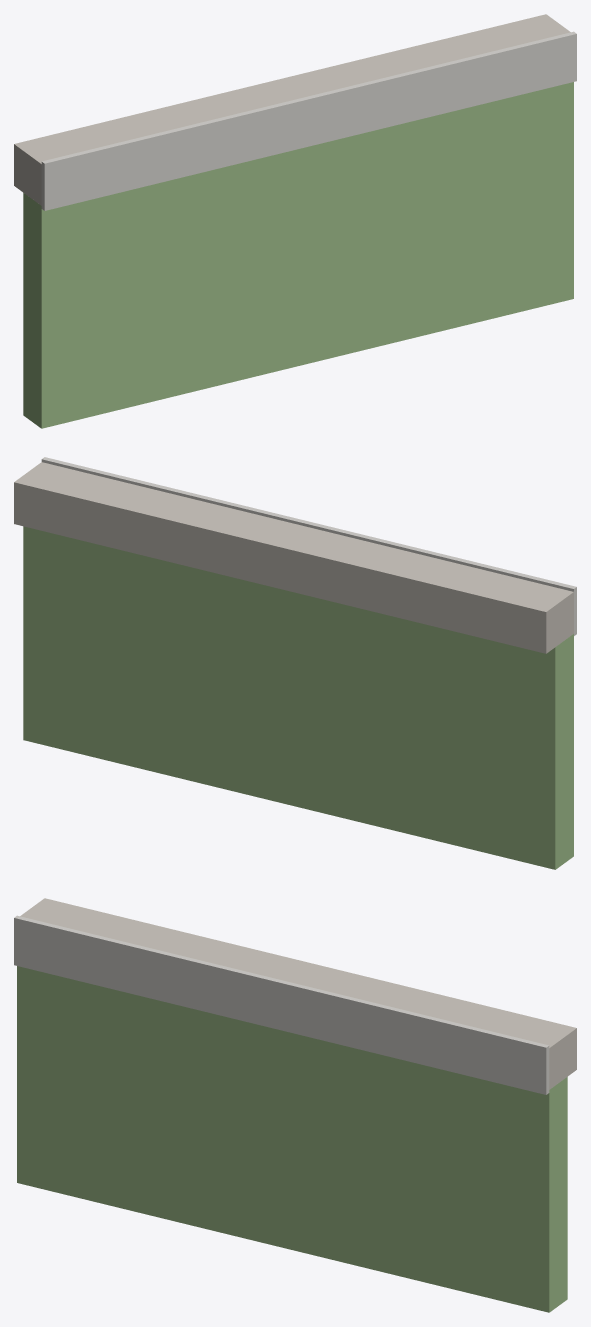
Rendered from r-125-charles-granite-seawall.glb.
3 views of the same model, one above another, from view 1: azimuth 30°, elevation 25°; view 2: azimuth 150°, elevation 25°; view 3: azimuth 330°, elevation 25° (orthographic).
Parts seen in each view (by area): view 1: grass-bank, coping, granite-wall; view 2: grass-bank, granite-wall, coping; view 3: grass-bank, coping, granite-wall.
Boxes of the visible parts, x1,y1,x2,y2 form: grass-bank: [23, 82, 573, 428]; coping: [41, 31, 576, 210]; granite-wall: [14, 14, 570, 205]; grass-bank: [23, 526, 573, 869]; granite-wall: [14, 462, 573, 653]; coping: [41, 457, 576, 635]; grass-bank: [17, 966, 567, 1312]; coping: [14, 915, 549, 1094]; granite-wall: [20, 898, 576, 1089].
Size of the model in its own units: 20000 by 9599 by 2000.
